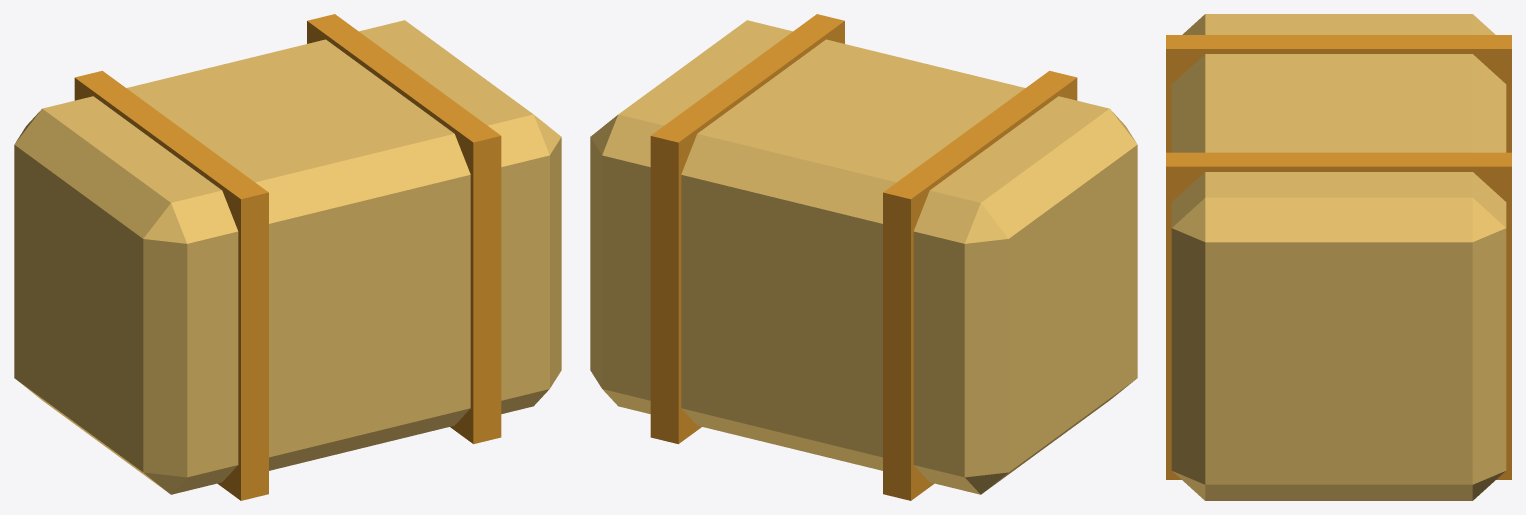
The model's file is prop_hay_bale.glb.
3 renders of one model, left to right at view 1: azimuth 30°, elevation 25°; view 2: azimuth 150°, elevation 25°; view 3: azimuth 270°, elevation 25°, orthographic. The views are drawn at different scales.
Visible parts, largest first — view 1: prop_hay_bale; view 2: prop_hay_bale; view 3: prop_hay_bale.
Boxes of the visible parts, box(x1,y1,x2,y2) form: prop_hay_bale: box(14, 14, 561, 500); prop_hay_bale: box(590, 14, 1137, 500); prop_hay_bale: box(1166, 14, 1511, 500).
Size of the model in its own units: 0.9 by 0.62 by 0.62.
